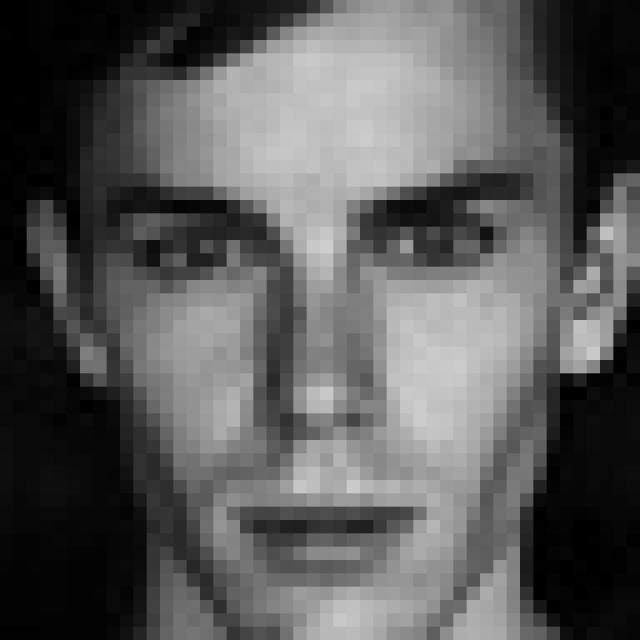neutral: (101, 169, 540, 596)
